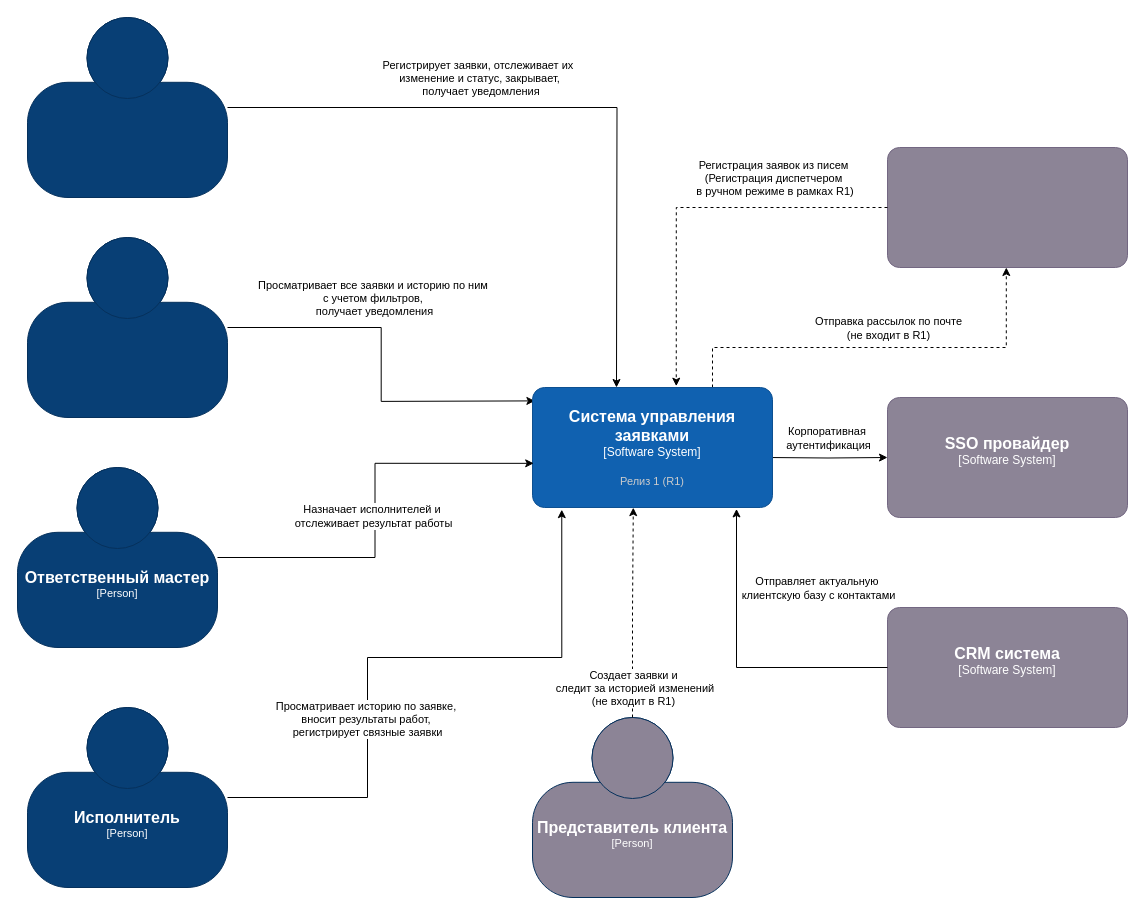
The diagram is 1145 pixels wide and 915 high, and some of its shapes have lost their labels. The centre of each missing label's shape, as x and y in pixels:
Email-провайдер [Software System]: point 1007,207
Диспетчер [Person]: point 127,107
Руководитель сервисного направления [Person]: point 127,327
